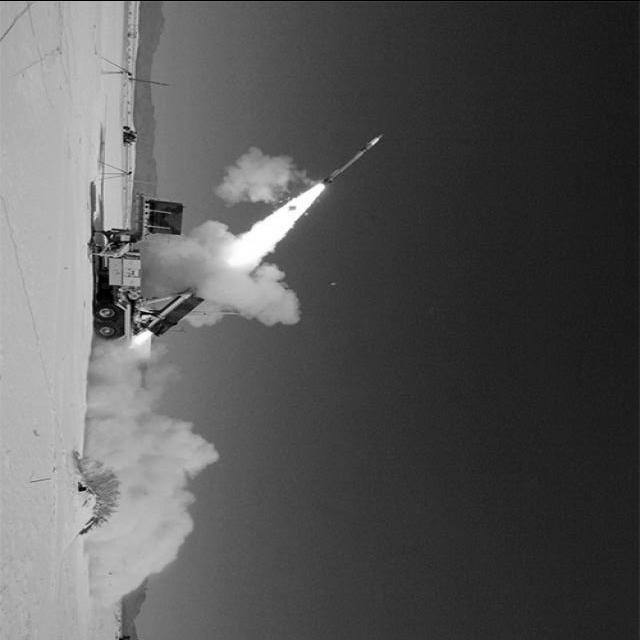Missile: (316, 124, 388, 188)
